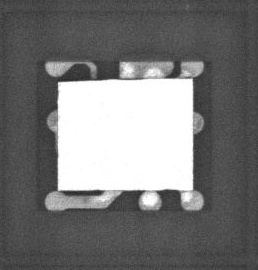DIE_BROKEN: (58, 78, 148, 84)
